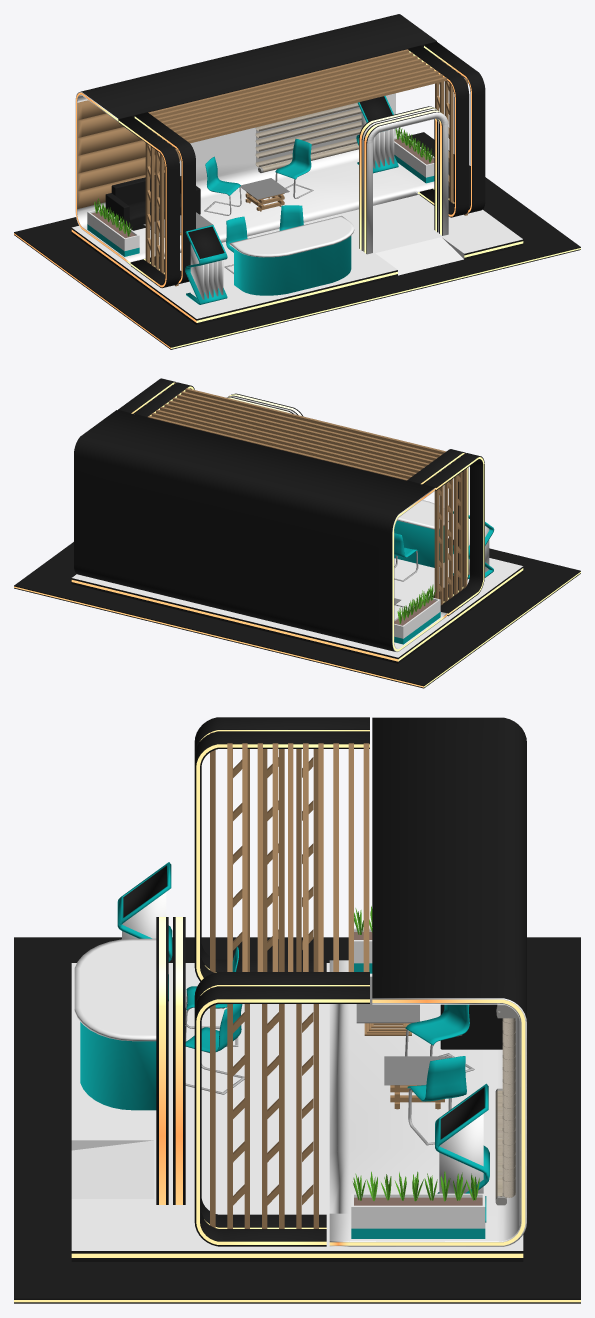
File: stand scene.gltf
The picture shows the model from 3 angles, top to bottom: view 1: azimuth 30°, elevation 25°; view 2: azimuth 150°, elevation 25°; view 3: azimuth 270°, elevation 25°; orthographic projection. The views are drawn at different scales.
Visible parts, largest first — view 1: Panel7, Platform1, Platform2, Panel3, Table, Panel6, Panel5, Entrance, Terminal1, Panel1, Sofa, Vegetation1 (+15 smaller); view 2: Panel7, Platform1, Panel3, Platform2, Panel5, Panel1, Table, Vegetation1, Panel6, Entrance, Terminal1; view 3: Panel7, Platform1, Platform2, Panel3, Table, Panel2, Panel6, Panel1, Panel5, Vegetation2, Entrance, Terminal2 (+9 smaller).
Boxes of the visible parts, x1,y1,x2,y2 form: Panel7: [75, 14, 436, 264]; Platform1: [14, 132, 580, 349]; Platform2: [71, 194, 523, 324]; Panel3: [148, 49, 446, 143]; Table: [229, 216, 354, 295]; Panel6: [408, 41, 485, 217]; Panel5: [118, 112, 195, 288]; Entrance: [359, 106, 448, 254]; Terminal1: [185, 225, 227, 304]; Panel1: [145, 128, 178, 286]; Sofa: [105, 172, 200, 230]; Vegetation1: [87, 198, 139, 256]; Panel7: [74, 410, 446, 652]; Platform1: [14, 538, 580, 688]; Panel3: [147, 388, 445, 480]; Platform2: [71, 548, 523, 663]; Panel5: [407, 449, 484, 616]; Panel1: [434, 453, 467, 605]; Table: [394, 500, 448, 567]; Vegetation1: [394, 584, 440, 644]; Panel6: [118, 378, 194, 417]; Entrance: [227, 393, 303, 416]; Terminal1: [453, 511, 494, 578]; Panel7: [329, 717, 526, 1246]; Platform1: [14, 937, 580, 1303]; Platform2: [71, 963, 523, 1261]; Panel3: [227, 743, 369, 971]; Table: [74, 938, 156, 1110]; Panel2: [210, 987, 318, 1228]; Panel6: [194, 972, 369, 1246]; Panel1: [210, 732, 318, 972]; Panel5: [194, 717, 369, 981]; Vegetation2: [351, 1171, 485, 1238]; Entrance: [156, 917, 185, 1204]; Terminal2: [435, 1083, 489, 1222].
Bounding box in the file's own units: 8.59 × 2.95 × 5.7.
Materials: 51 (34 with a texture image).
